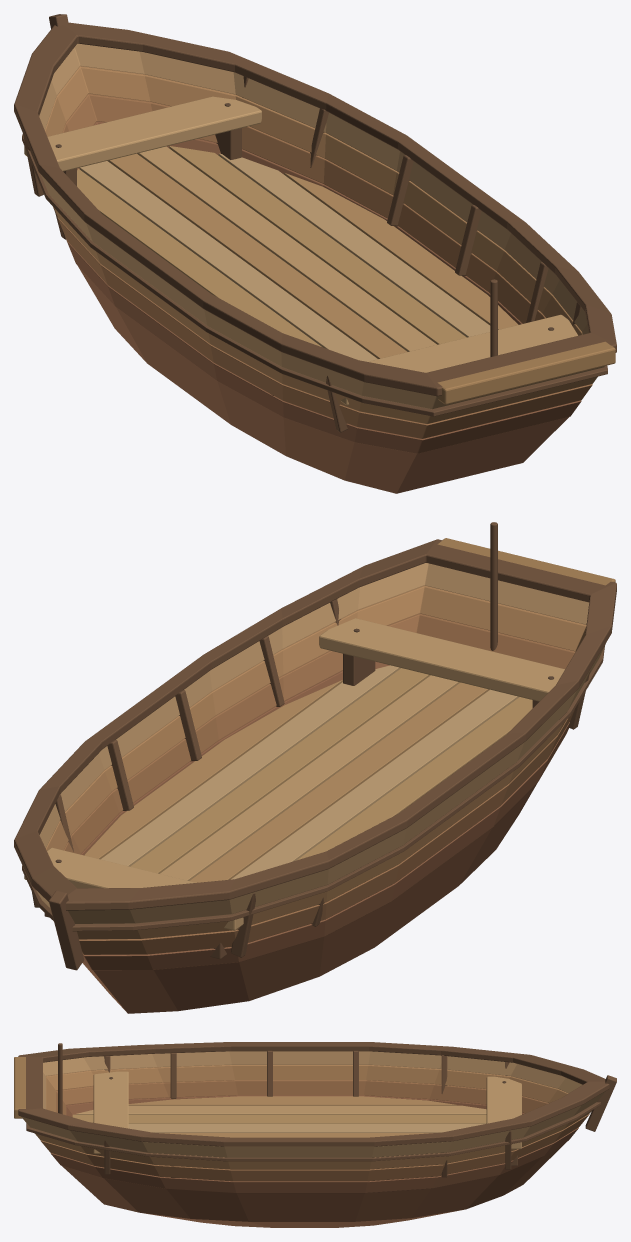
File: fleet_boat.glb
The picture shows the model from 3 angles, top to bottom: view 1: azimuth 30°, elevation 25°; view 2: azimuth 150°, elevation 25°; view 3: azimuth 270°, elevation 25°; orthographic projection. The views are drawn at different scales.
Visible parts, largest first — view 1: Continuous shaped gunwale, Side strake 03, Side strake 01, Side strake 02, Closed lower timber hull, Side strake 00, Floorboard 04, Floorboard 05, Floorboard 03, Floorboard 06, End thwart 01, Floorboard 07 (+8 smaller); view 2: Continuous shaped gunwale, Side strake 03, Side strake 01, Side strake 02, Closed lower timber hull, Side strake 00, End thwart 00, Floorboard 05, Floorboard 06, Floorboard 04, Floorboard 07, Floorboard 03 (+11 smaller); view 3: Closed lower timber hull, Continuous shaped gunwale, Side strake 03, Side strake 01, Side strake 02, Side strake 00, Floorboard 02, Floorboard 01, Floorboard 03, Fine outer rubbing strip, Floorboard 00, End thwart 00 (+8 smaller).
Boxes of the visible parts, x1,y1,x2,y2 form: Continuous shaped gunwale: (14,22,616,396); Side strake 03: (39,43,604,409); Side strake 01: (53,93,592,438); Side strake 02: (45,66,597,423); Closed lower timber hull: (77,265,568,493); Side strake 00: (53,121,581,453); Floorboard 04: (107,153,407,358); Floorboard 05: (137,146,436,351); Floorboard 03: (79,161,377,361); Floorboard 06: (169,146,466,344); End thwart 01: (24,96,261,171); Floorboard 07: (218,153,490,337); Continuous shaped gunwale: (14,539,616,910); Side strake 03: (36,563,605,924); Side strake 01: (64,613,575,954); Side strake 02: (46,585,586,939); Closed lower timber hull: (82,784,536,1013); Side strake 00: (81,661,569,970); End thwart 00: (319,618,564,701); Floorboard 05: (160,675,459,880); Floorboard 06: (130,668,430,873); Floorboard 04: (189,682,489,882); Floorboard 07: (100,665,400,866); Floorboard 03: (231,689,519,879); Closed lower timber hull: (62,1142,566,1227); Continuous shaped gunwale: (18,1042,609,1146); Side strake 03: (21,1051,605,1157); Side strake 01: (40,1080,589,1181); Side strake 02: (35,1065,592,1169); Side strake 00: (50,1095,578,1193); Floorboard 02: (72,1114,486,1123); Floorboard 01: (76,1105,486,1114); Floorboard 03: (128,1123,485,1132); Fine outer rubbing strip: (26,1102,600,1161); Floorboard 00: (128,1096,456,1105); End thwart 00: (93,1071,128,1153).
Bounding box in the file's own units: 1.81 × 1.37 × 4.63.
